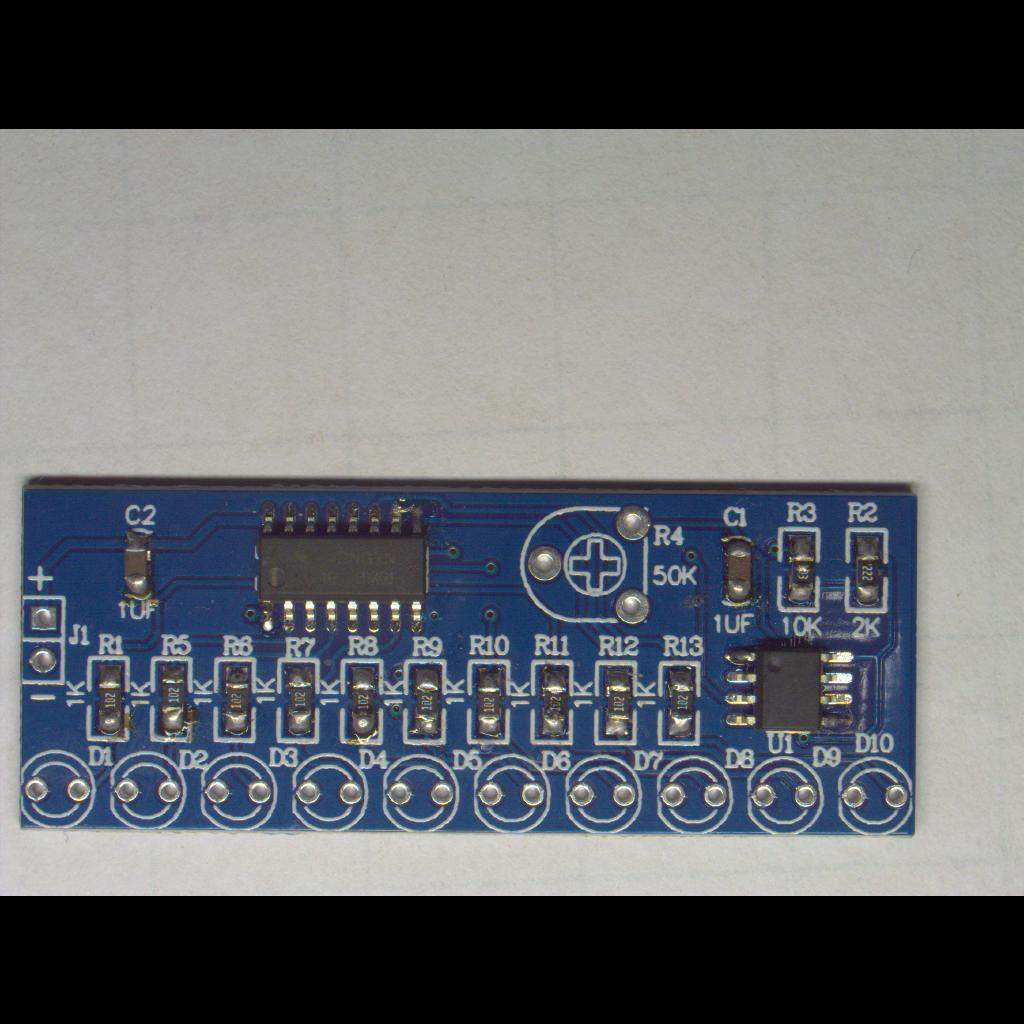OK: (250, 492, 438, 642), (716, 634, 864, 742), (337, 654, 387, 748), (84, 650, 132, 746), (842, 524, 892, 616), (528, 656, 578, 748), (275, 653, 323, 747), (401, 654, 449, 748), (592, 656, 640, 750), (211, 652, 259, 744), (465, 656, 513, 748), (775, 523, 823, 615), (148, 652, 194, 746), (655, 658, 701, 750), (118, 522, 160, 614), (718, 530, 758, 612)
